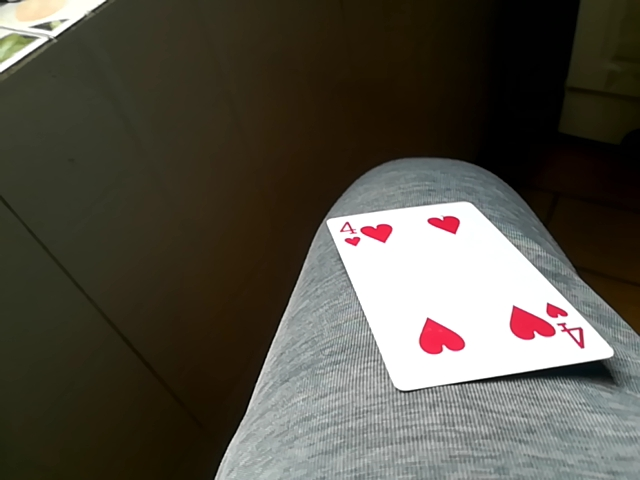hx 4: (321, 197, 613, 390)
